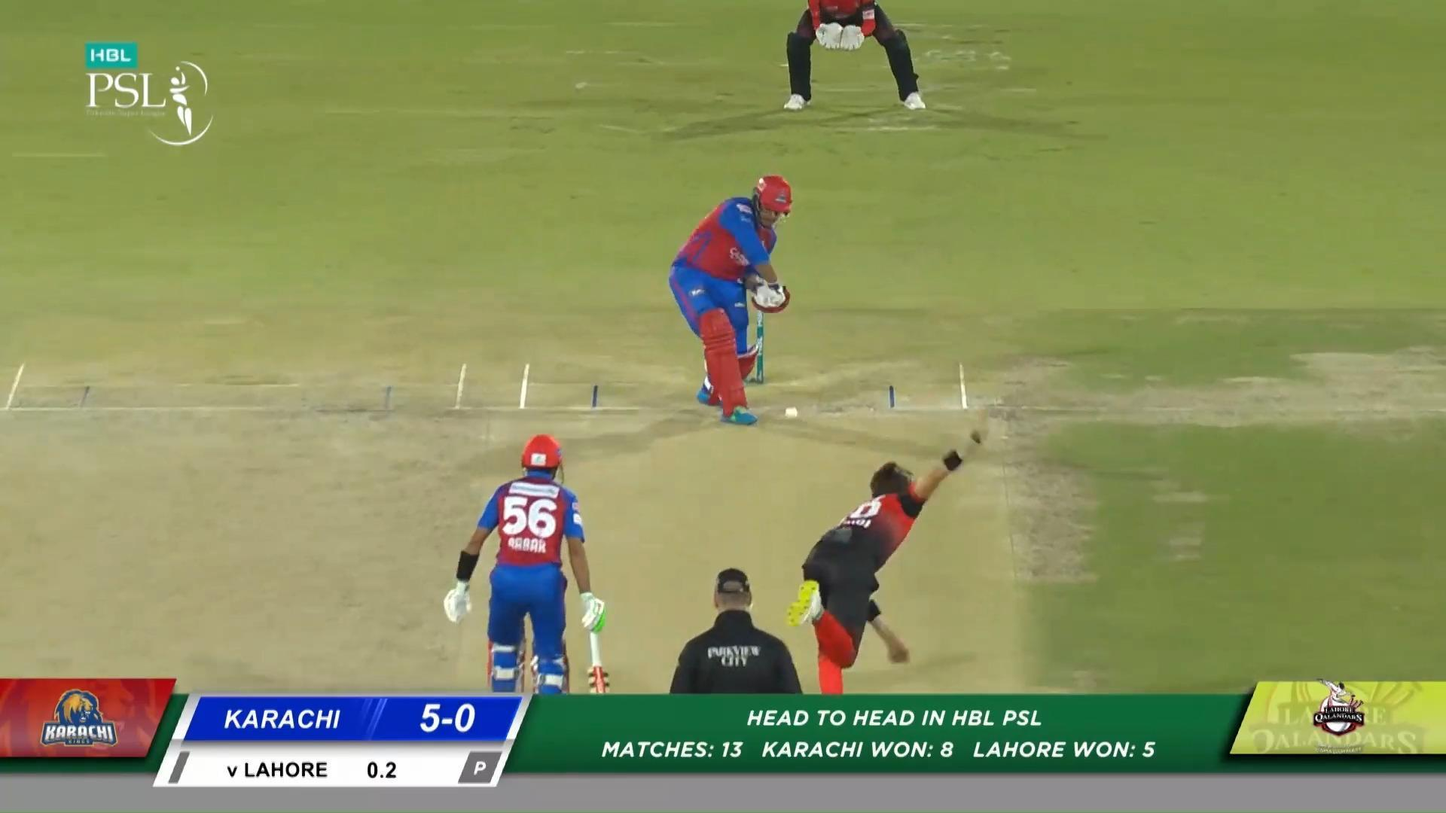BM 1: (669, 174, 794, 425)
BO: (785, 403, 995, 741)
